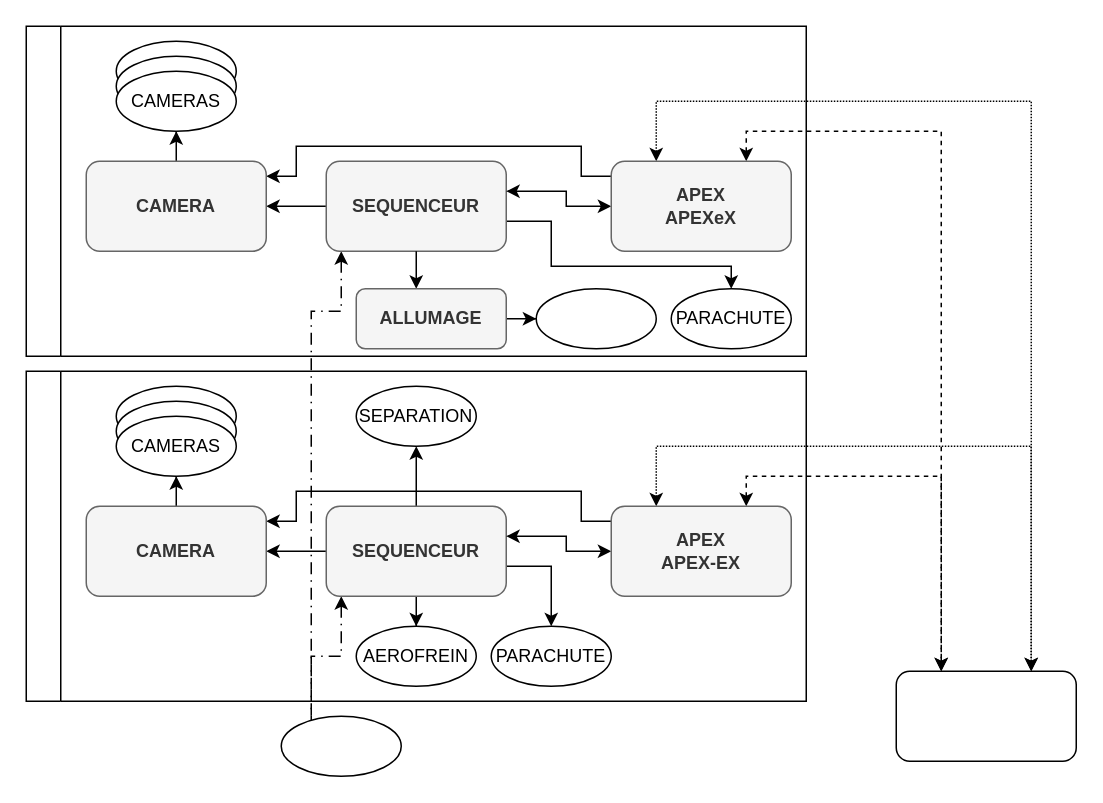
The diagram is 1103 pixels wide and 803 high, and some of its shapes have lost their labels. The shapes that lost their labels are listed below. From the top down, each one's box as (x1, y1, x2, y2) in pixels, then its label:
(25, 25, 806, 356): ETAGE 2
(535, 287, 656, 349): INFLA
(25, 370, 806, 701): ETAGE 1
(895, 670, 1076, 761): STATION SOL
(280, 715, 401, 776): Signale de décollage
